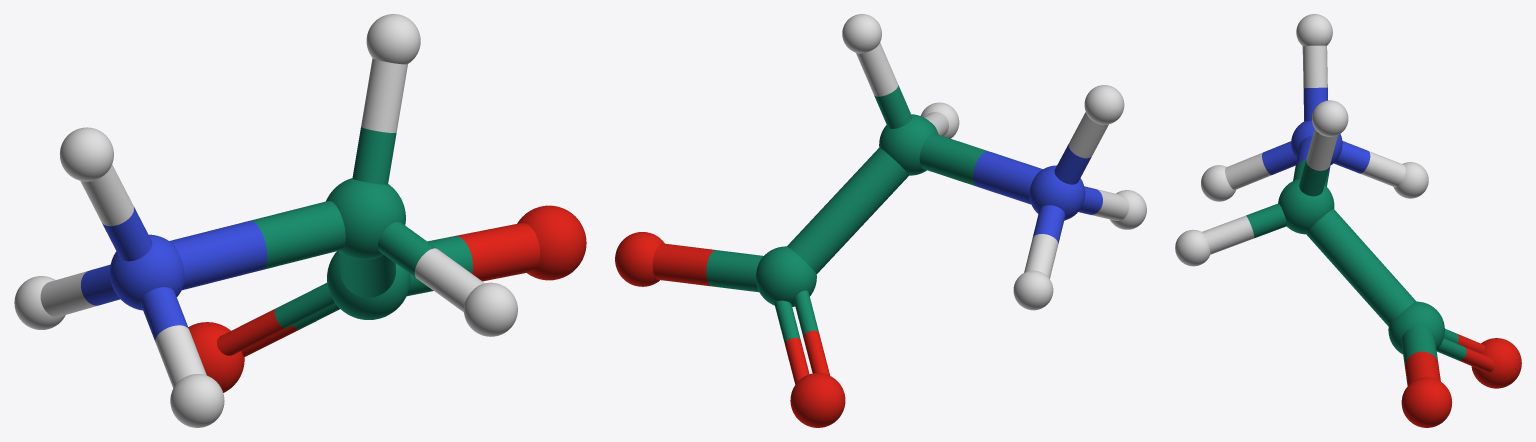
File: GLY.PDB.glb
3 views of the same model, side by side, from view 1: azimuth 30°, elevation 25°; view 2: azimuth 150°, elevation 25°; view 3: azimuth 270°, elevation 25° (orthographic). The views are drawn at different scales.
Size of the model in its own units: 4.23 by 3.03 by 3.12.
